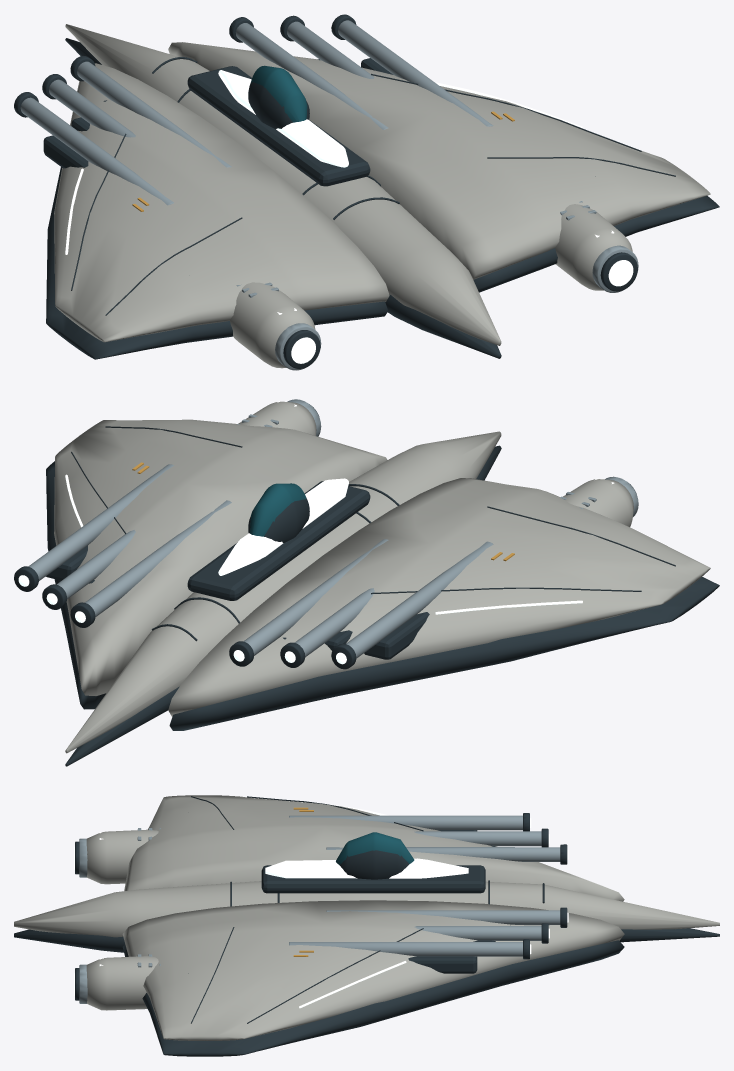
The model's file is boss-6.glb.
3 renders of one model, top to bottom at view 1: azimuth 30°, elevation 25°; view 2: azimuth 150°, elevation 25°; view 3: azimuth 270°, elevation 25°, orthographic. The views are drawn at different scales.
Parts seen in each view (by area): view 1: SM_Wing_Left, SM_Wing_Right, SM_Hull, SM_Weapon_Left, SM_Weapon_Right, SM_Engine_Left, SM_Engine_Right; view 2: SM_Wing_Left, SM_Wing_Right, SM_Hull, SM_Weapon_Left, SM_Weapon_Right, SM_Engine_Left, SM_Engine_Right; view 3: SM_Wing_Right, SM_Hull, SM_Wing_Left, SM_Weapon_Right, SM_Weapon_Left, SM_Engine_Right, SM_Engine_Left.
Part boxes in pixels (box(x1,y1,x2,y2)): SM_Wing_Left: box(46, 63, 389, 359); SM_Wing_Right: box(168, 42, 719, 292); SM_Hull: box(65, 24, 501, 358); SM_Weapon_Left: box(14, 56, 231, 205); SM_Weapon_Right: box(229, 14, 493, 129); SM_Engine_Left: box(230, 282, 321, 370); SM_Engine_Right: box(555, 201, 638, 292); SM_Wing_Left: box(168, 478, 719, 730); SM_Wing_Right: box(46, 419, 387, 709); SM_Hull: box(65, 431, 501, 766); SM_Weapon_Left: box(229, 539, 493, 669); SM_Weapon_Right: box(14, 464, 231, 627); SM_Engine_Left: box(560, 476, 638, 526); SM_Engine_Right: box(237, 399, 321, 436); SM_Wing_Right: box(122, 900, 624, 1056); SM_Hull: box(14, 832, 719, 952); SM_Wing_Left: box(124, 795, 624, 901); SM_Weapon_Right: box(289, 907, 568, 973); SM_Weapon_Left: box(289, 813, 568, 864); SM_Engine_Right: box(74, 954, 160, 1010); SM_Engine_Left: box(74, 828, 160, 884).
Bounding box in the file's own units: 8.65 × 2.06 × 10.4.
